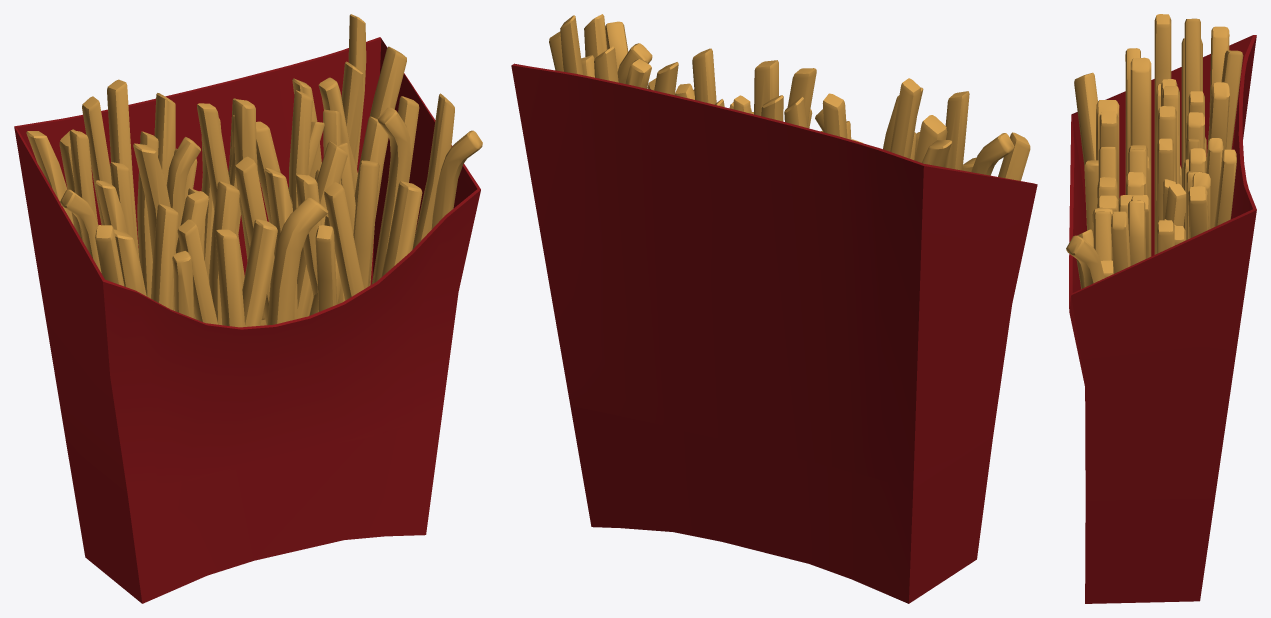
The model's file is FRIES.fbx.
3 views of the same model, side by side, from view 1: azimuth 30°, elevation 25°; view 2: azimuth 150°, elevation 25°; view 3: azimuth 270°, elevation 25° (orthographic). The views are drawn at different scales.
Visible parts, largest first — view 1: fries_v1.002; view 2: fries_v1.002; view 3: fries_v1.002.
Part boxes in pixels (bbox=[...]): fries_v1.002: bbox=[14, 14, 482, 603]; fries_v1.002: bbox=[511, 14, 1037, 603]; fries_v1.002: bbox=[1066, 14, 1256, 603].
Size of the model in its own units: 74.4 by 84.79 by 32.2.
